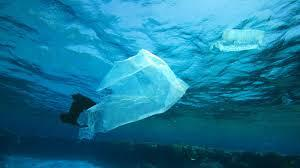Plastic bag: (84, 48, 188, 146), (207, 21, 272, 68)
